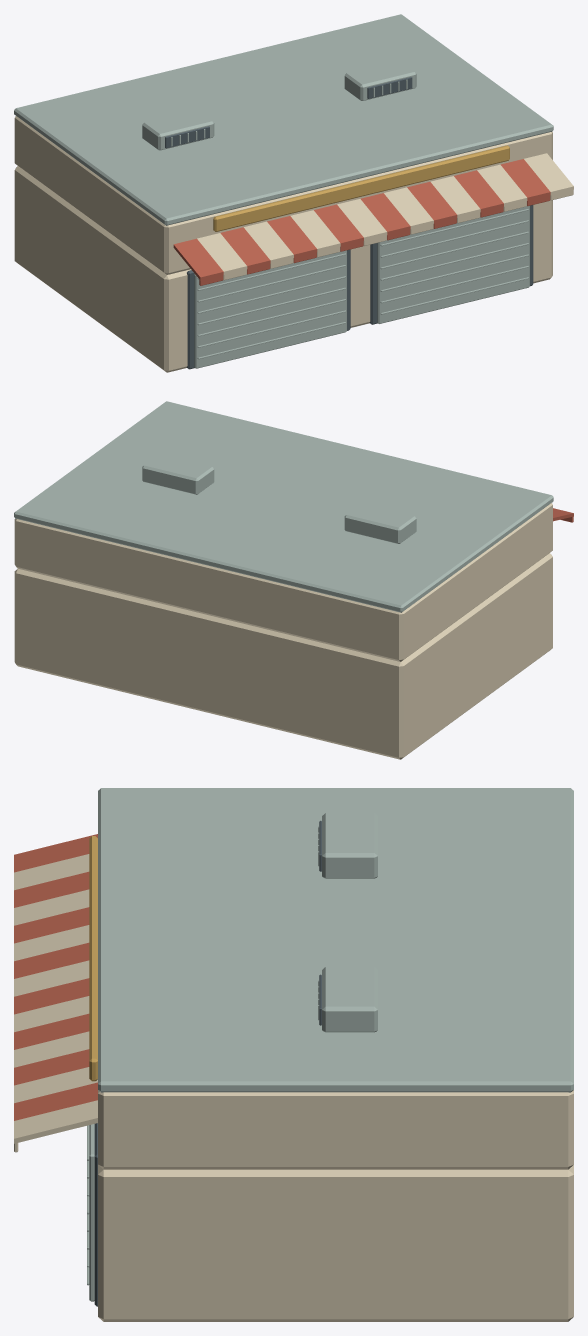
Rendered from urban_shop.glb.
3 views of the same model, one above another, from view 1: azimuth 30°, elevation 25°; view 2: azimuth 150°, elevation 25°; view 3: azimuth 270°, elevation 25° (orthographic). The views are drawn at different scales.
Visible parts, largest first — view 1: Occlude_Upper_Mesh, Keep_Mesh; view 2: Occlude_Upper_Mesh, Keep_Mesh; view 3: Occlude_Upper_Mesh, Keep_Mesh.
Boxes of the visible parts, x1,y1,x2,y2 form: Occlude_Upper_Mesh: [14, 14, 573, 285]; Keep_Mesh: [14, 166, 552, 372]; Occlude_Upper_Mesh: [14, 401, 573, 661]; Keep_Mesh: [14, 553, 552, 759]; Occlude_Upper_Mesh: [14, 788, 573, 1169]; Keep_Mesh: [87, 1123, 573, 1321].
Bounding box in the file's own units: 10 × 4.2 × 8.
